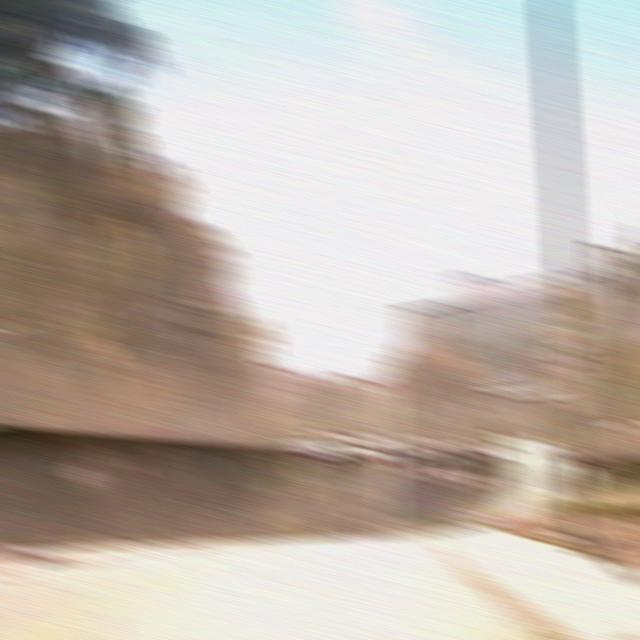speedLimit35: (546, 312, 594, 376)
